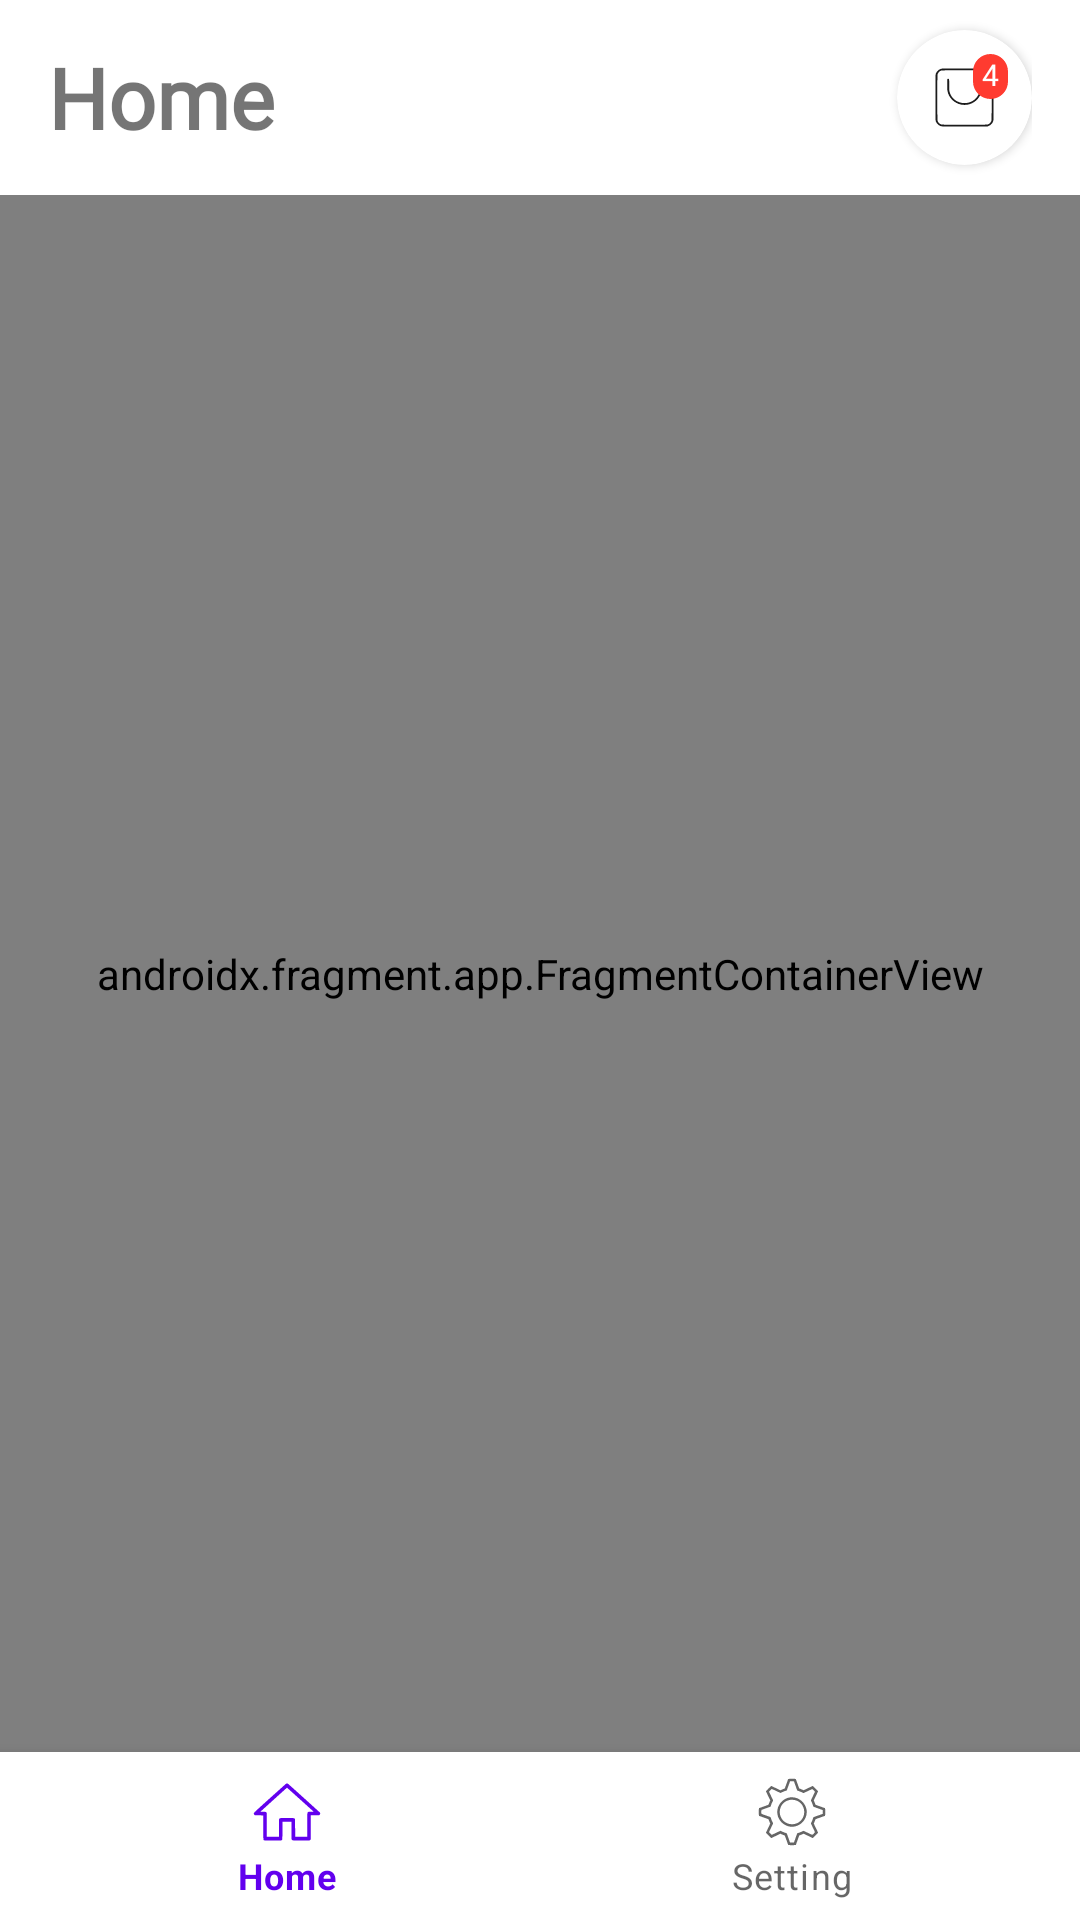

Icon bounding boxes for this 1080w x 1920h phone screenshot, format BBox(x1, y1, x2, y2):
cart: BBox(935, 54, 996, 127)
